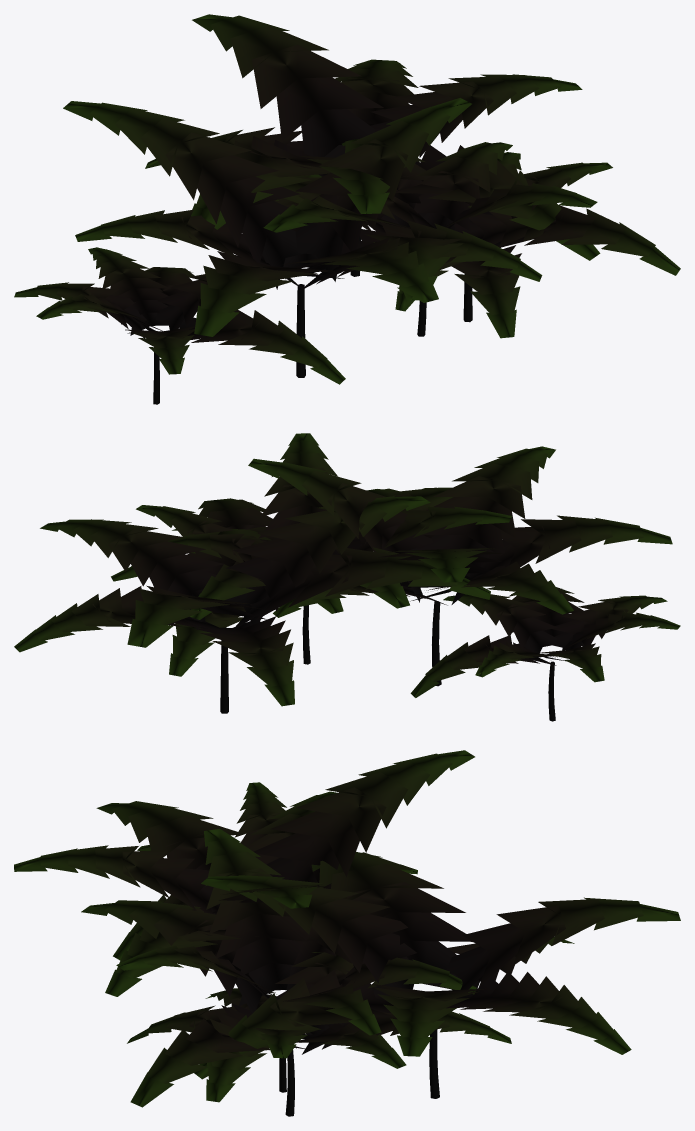
File: patch_palm_far.glb
The picture shows the model from 3 angles, top to bottom: view 1: azimuth 30°, elevation 25°; view 2: azimuth 150°, elevation 25°; view 3: azimuth 270°, elevation 25°; orthographic projection. The views are drawn at different scales.
Parts seen in each view (by area): view 1: patch_palm_far; view 2: patch_palm_far; view 3: patch_palm_far.
Boxes of the visible parts, bbox=[...] form: patch_palm_far: bbox=[14, 14, 680, 404]; patch_palm_far: bbox=[14, 433, 680, 721]; patch_palm_far: bbox=[14, 750, 680, 1116].
Size of the model in its own units: 12.84 by 4.44 by 12.31.
1 material, 1 textured.
